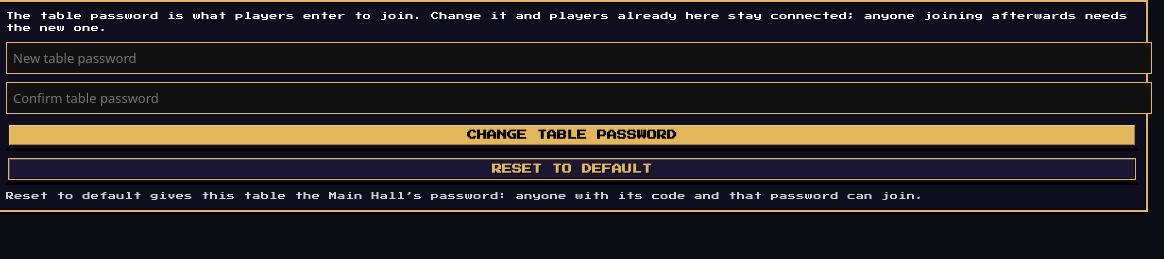
Scenario: TablePasswordControl - Characterization Tests › Password Validation › should show error when password is too short (less than 6 characters)
Type "abc" into the password field with placeholder "New table password".
click(579, 58); type("abc")  # box [6,42,1152,74]
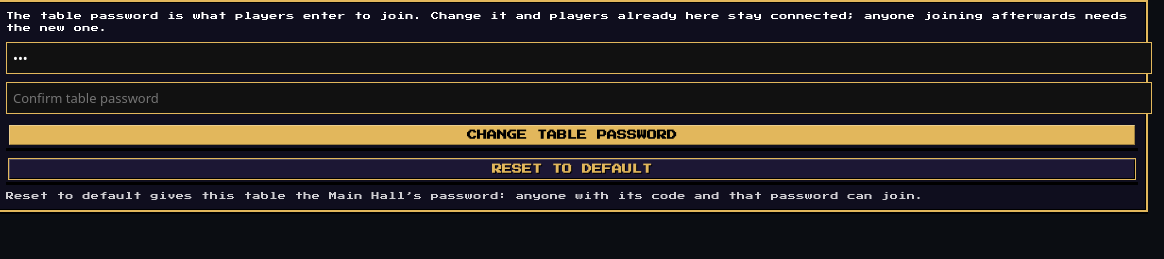
Type "abc" into the password field with placeholder "Confirm table password".
click(579, 98); type("abc")  # box [6,82,1152,114]
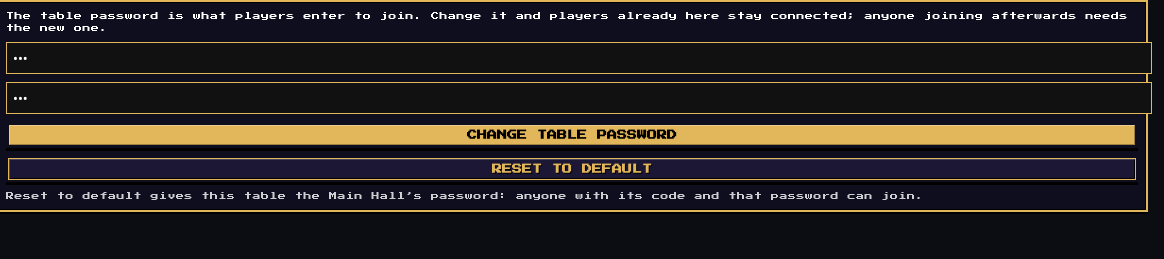
Click the button "Change table password".
click(572, 135)  # box [6,122,1138,148]
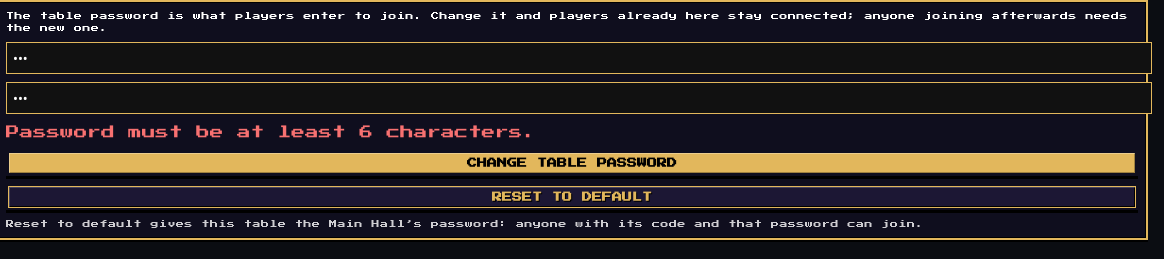
Expected: the text "Password must be at least 6 characters." is shown, [6,125,536,139]
